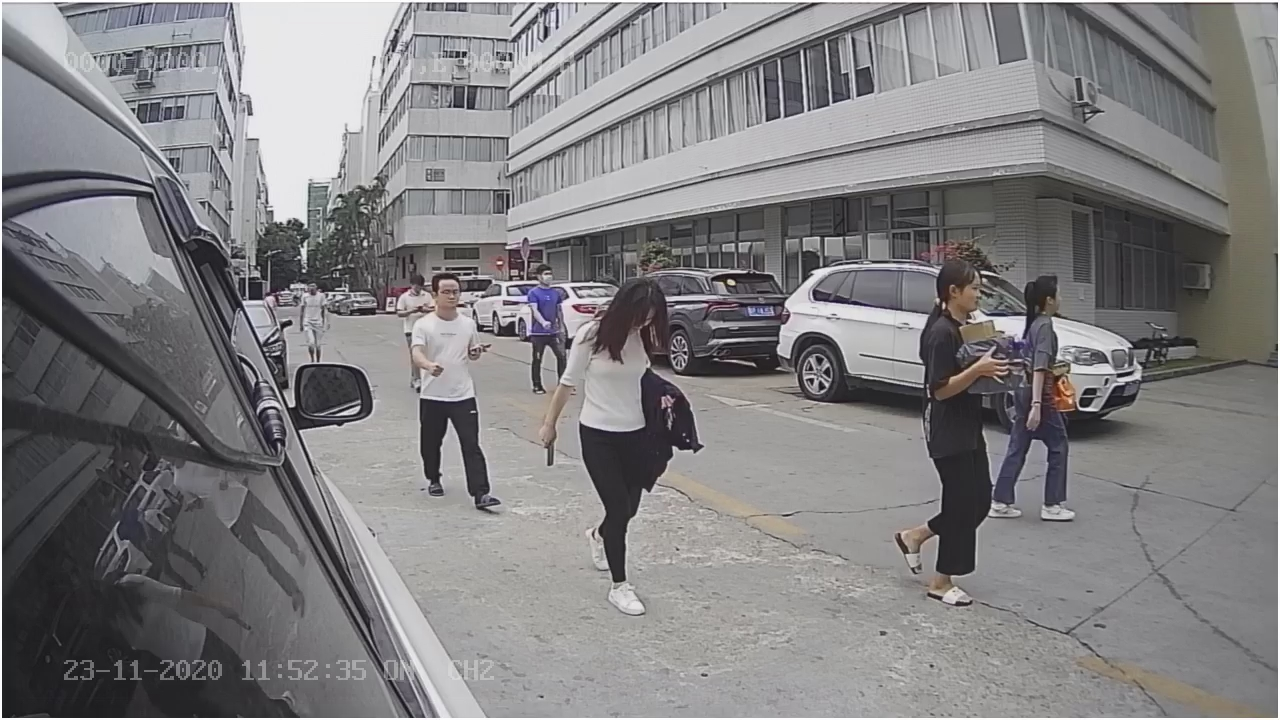person: (552, 272, 662, 617), (415, 268, 488, 507)
